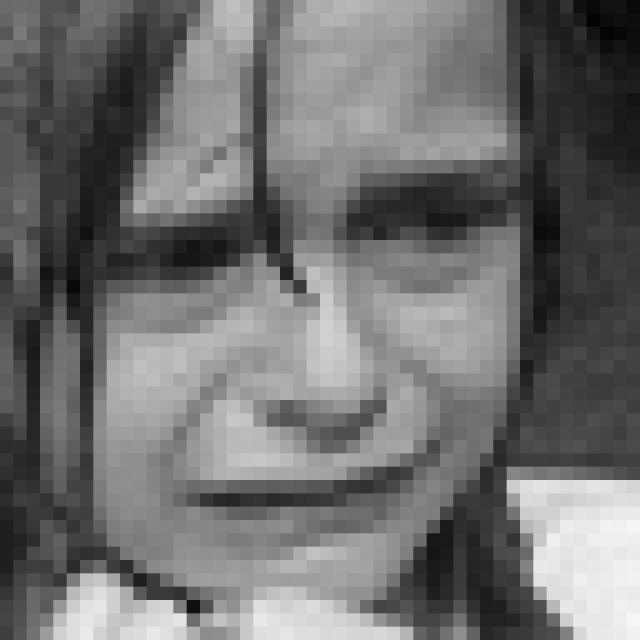sad: (87, 146, 520, 570)
